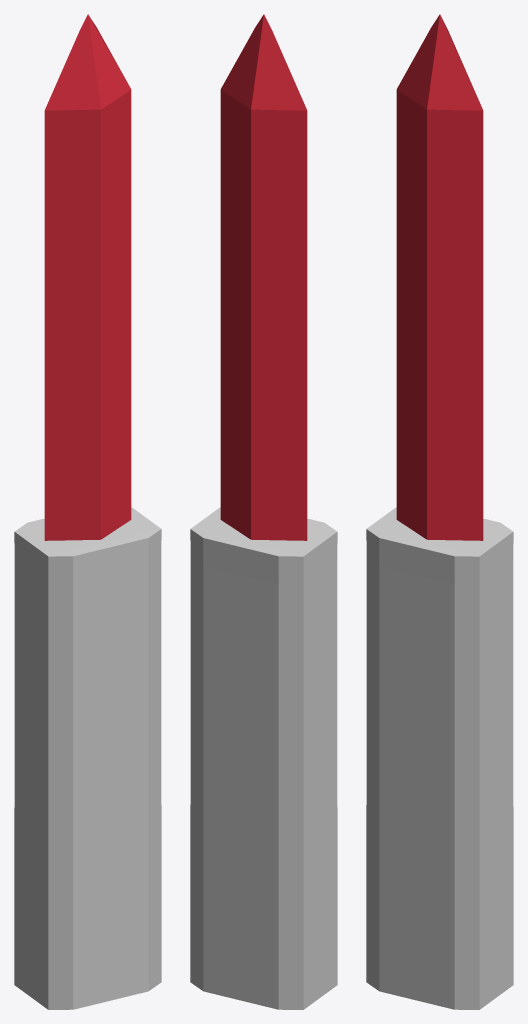
File: knife.fbx
The picture shows the model from 3 angles, left to right: view 1: azimuth 30°, elevation 25°; view 2: azimuth 150°, elevation 25°; view 3: azimuth 330°, elevation 25°; orthographic projection.
Visible parts, largest first — view 1: Cube; view 2: Cube; view 3: Cube.
Part boxes in pixels (x1=…): Cube: x1=14, y1=14, x2=161, y2=1009; Cube: x1=190, y1=14, x2=337, y2=1009; Cube: x1=366, y1=14, x2=513, y2=1009.
Bounding box in the file's own units: 186 × 1527 × 131.
